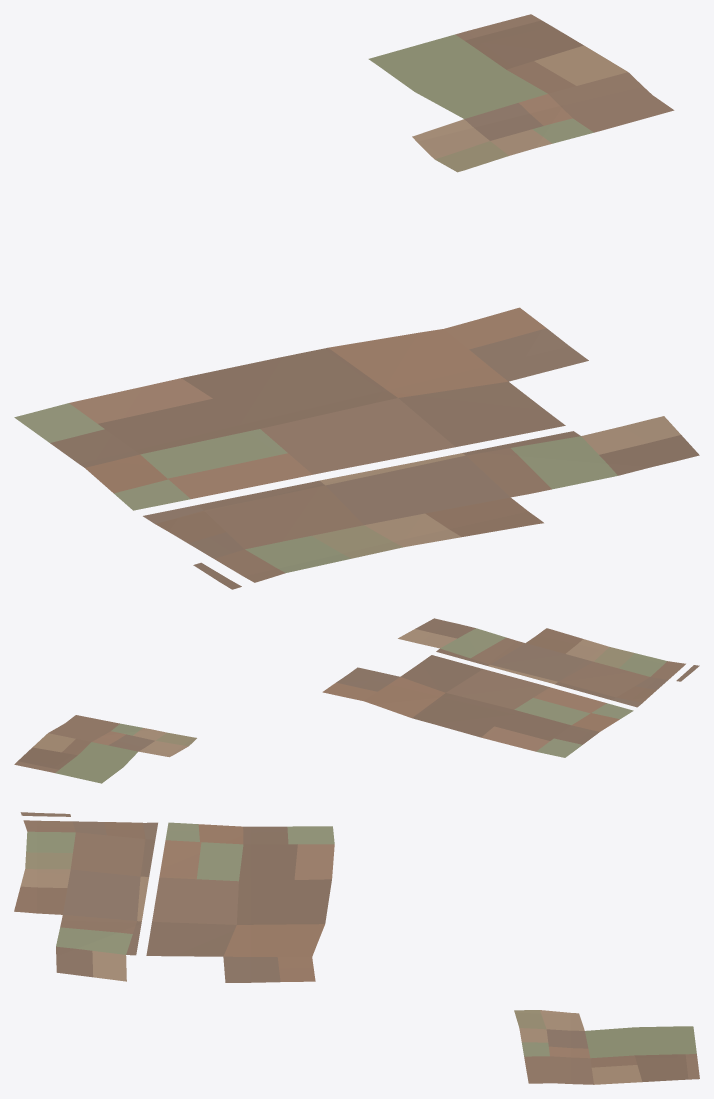
The model's file is farm_21_15_soil.glb.
3 views of the same model, one above another, from view 1: azimuth 30°, elevation 25°; view 2: azimuth 150°, elevation 25°; view 3: azimuth 270°, elevation 25° (orthographic). The views are drawn at different scales.
Parts seen in each view (by area): view 1: geometry_0; view 2: geometry_0; view 3: geometry_0.
Boxes of the visible parts, box(x1,y1,x2,y2) form: geometry_0: box(14, 14, 699, 589); geometry_0: box(14, 618, 699, 783); geometry_0: box(14, 812, 699, 1084).
Size of the model in its own units: 470 by 7.02 by 514.
